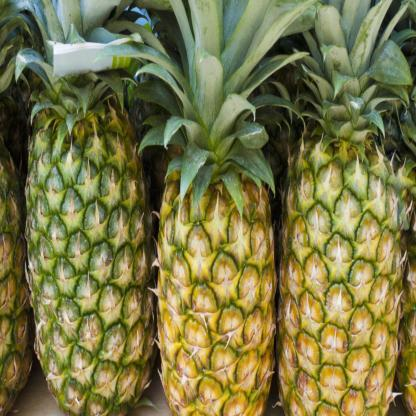----: (12, 0, 158, 416), (274, 0, 409, 416), (152, 0, 284, 416)
